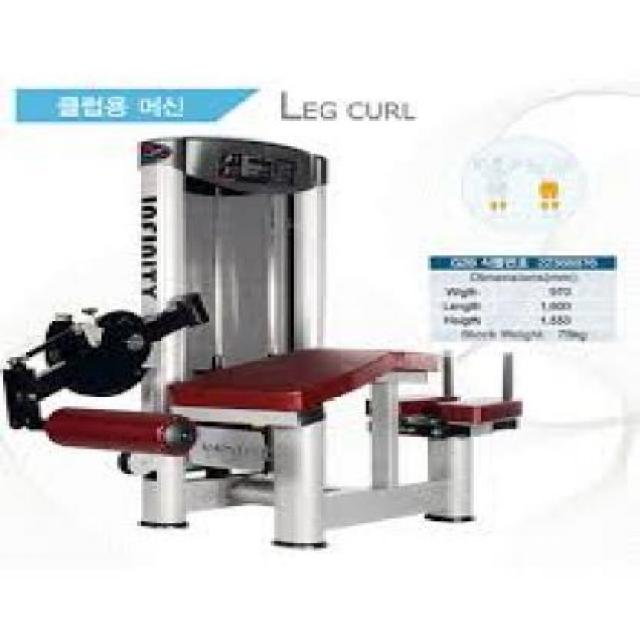reg curl machine: (3, 130, 529, 558)
